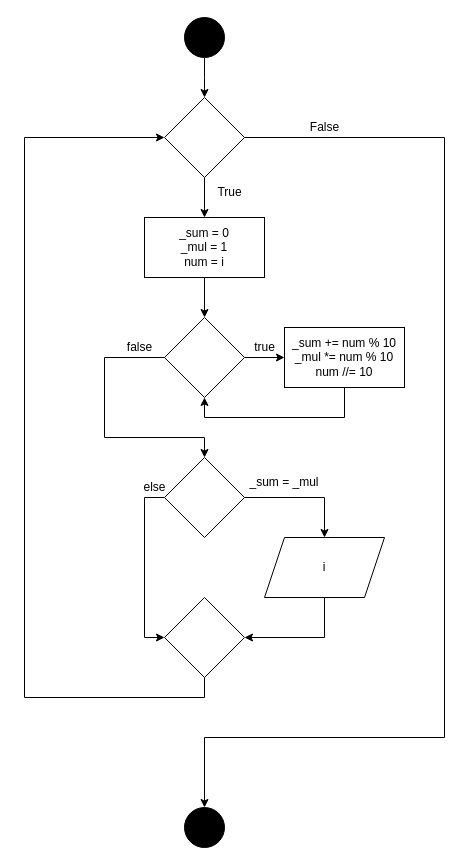
Some shapes in this 470 by 865 pixel diagram are drawn without their labels. Each missing label, with the centre of its shape:
i < 1000: the point at 204,137
num != 0: the point at 204,357
